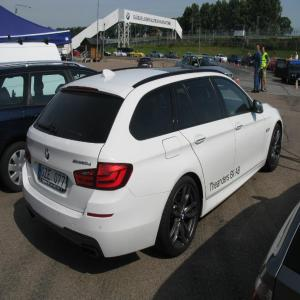Vehicle-registration-plate: (40, 170, 65, 198)
